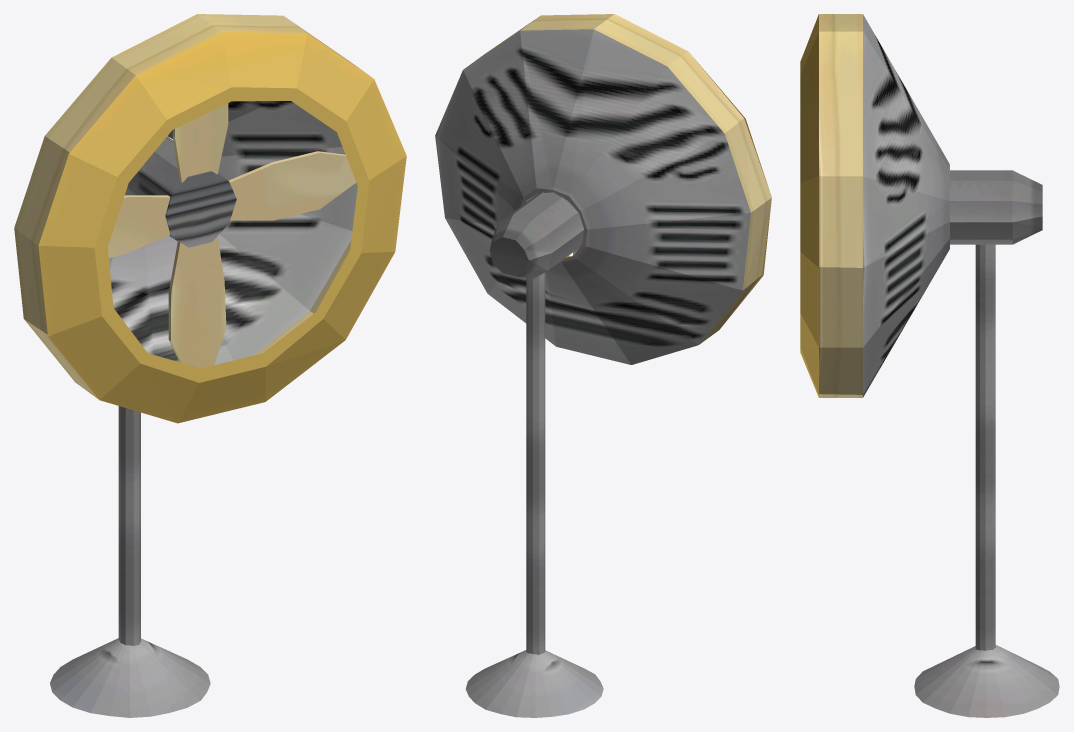
Rendered from Sfan.glb.
3 renders of one model, left to right at view 1: azimuth 30°, elevation 25°; view 2: azimuth 150°, elevation 25°; view 3: azimuth 270°, elevation 25°, orthographic. The views are drawn at different scales.
Parts seen in each view (by area): view 1: Sfan; view 2: Sfan; view 3: Sfan.
Part boxes in pixels (x1,y1,x2,y2): Sfan: [14, 14, 406, 717]; Sfan: [435, 14, 771, 717]; Sfan: [800, 14, 1059, 717].
Bounding box in the file's own units: 196 × 367 × 132.
1 material, 1 textured.
